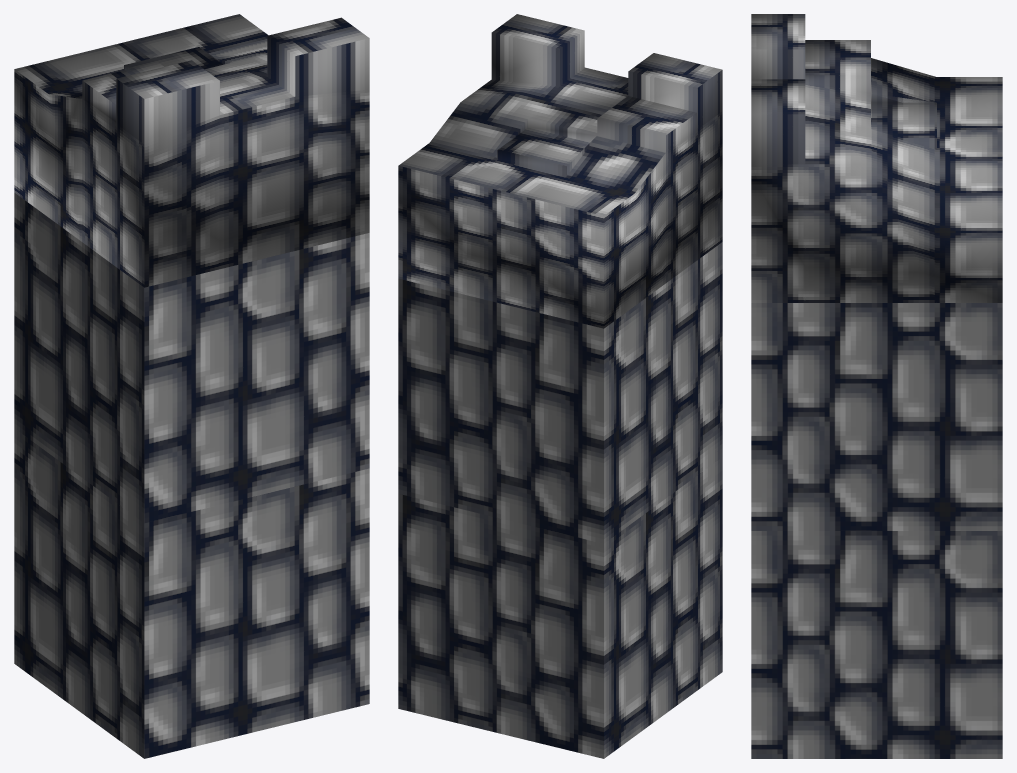
Rendered from Ruine1.glb.
3 views of the same model, side by side, from view 1: azimuth 30°, elevation 25°; view 2: azimuth 150°, elevation 25°; view 3: azimuth 270°, elevation 25° (orthographic). The views are drawn at different scales.
Parts seen in each view (by area): view 1: Cube; view 2: Cube; view 3: Cube.
Part boxes in pixels (x1,y1,x2,y2): Cube: [14, 14, 369, 758]; Cube: [398, 14, 722, 758]; Cube: [751, 14, 1002, 758].
Bounding box in the file's own units: 2 × 5.65 × 2.
1 material, 1 textured.
